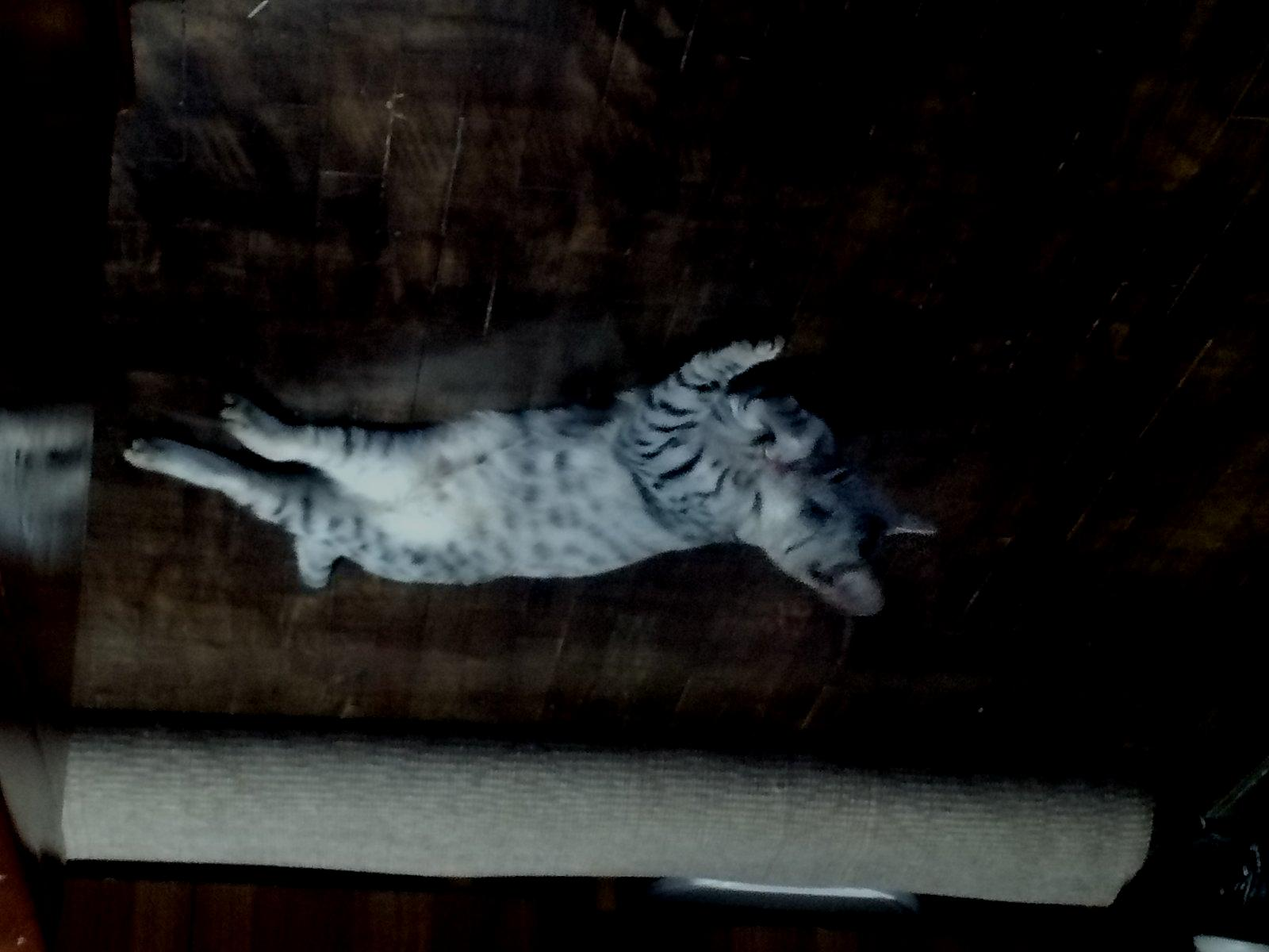macka: (111, 325, 946, 618)
